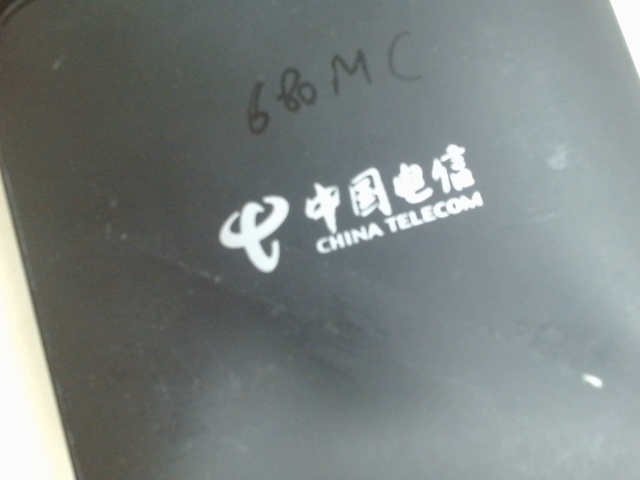AB_ChinaTelecom: (206, 137, 503, 284)
